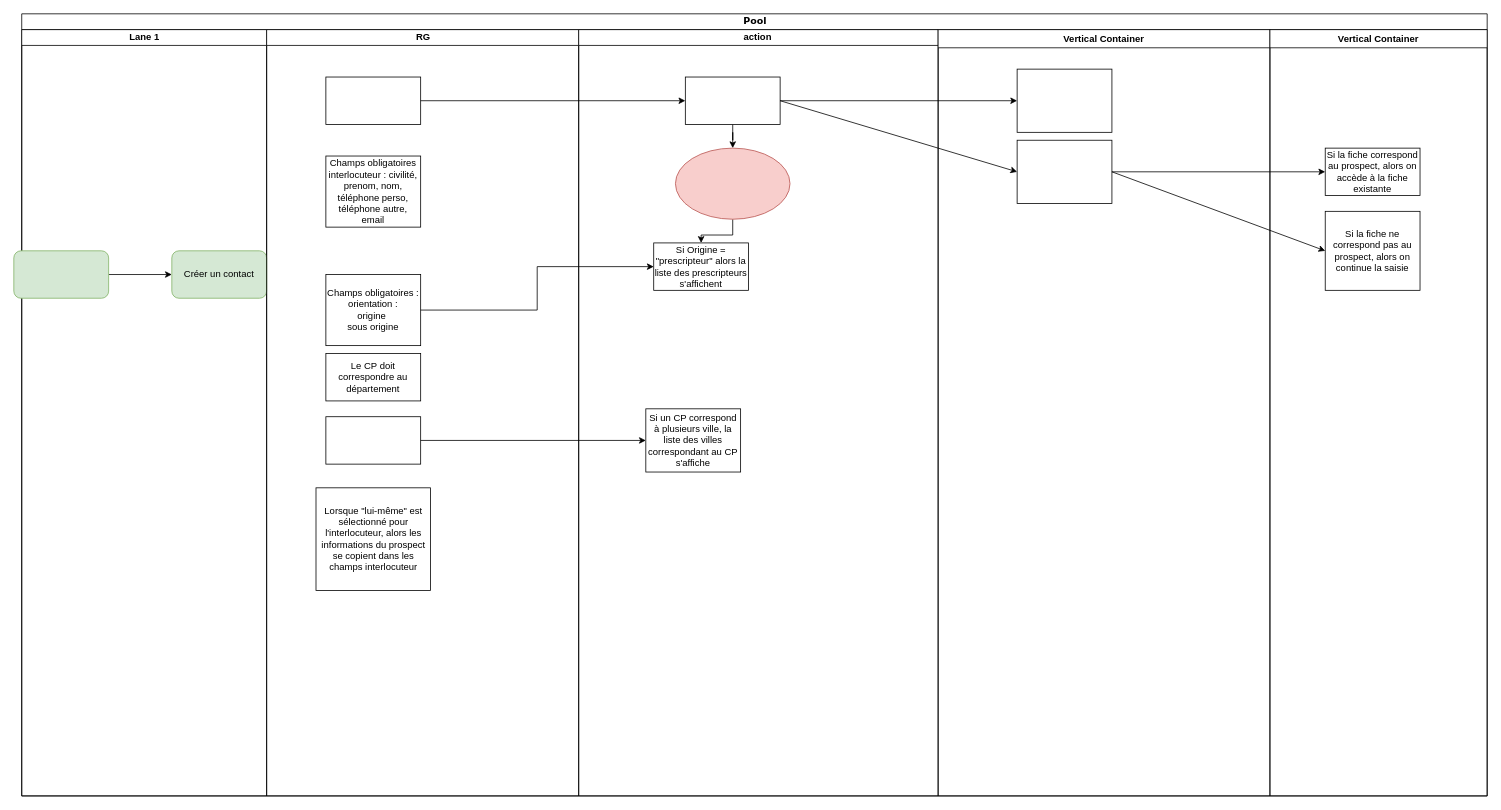
Image size: 1501x810. Some labels were removed from this diagram. The shapes that lost their labels are listed below. From the top down, each one's centre as x and y in pixels, then its label:
At point 373,100: "Champs obligatoires prospect : prénom, nom département".
At point 732,100: "Vérification des doublons prospect : nom, prénom, département".
At point 1064,100: "Si utilisateur =/ DCM alors un message alertant qu'il y a un doublon s'affiche".
At point 732,183: "Faire attention aux règles dans quel cas c'est un doublon ou non".
At point 1064,171: "Si utilisateur = DCM alors les fiches qui correspondent au doublon s'affiche".
At point 61,274: "Action commerciale".
At point 373,440: "Lorsque le CP est saisie alors la ville correspondant s'affiche".
